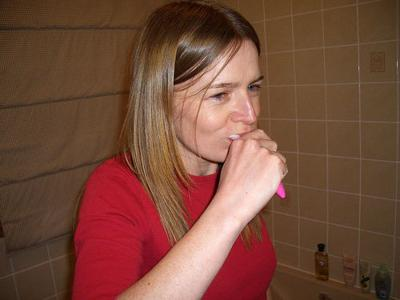person: (69, 2, 291, 300)
